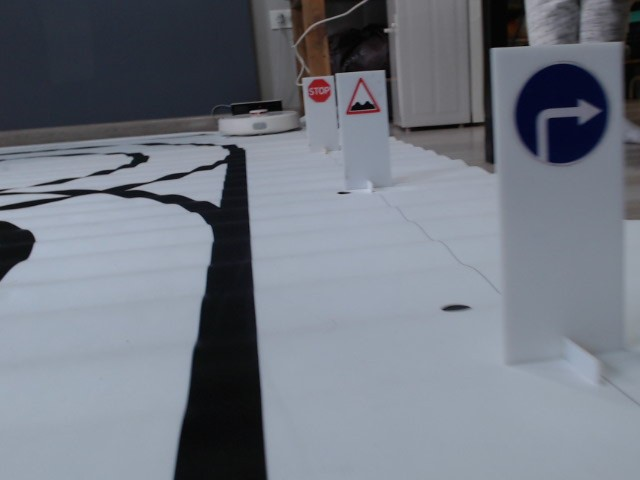Nerov: (344, 76, 380, 114)
Right: (512, 59, 610, 167)
Stop: (308, 78, 331, 103)
